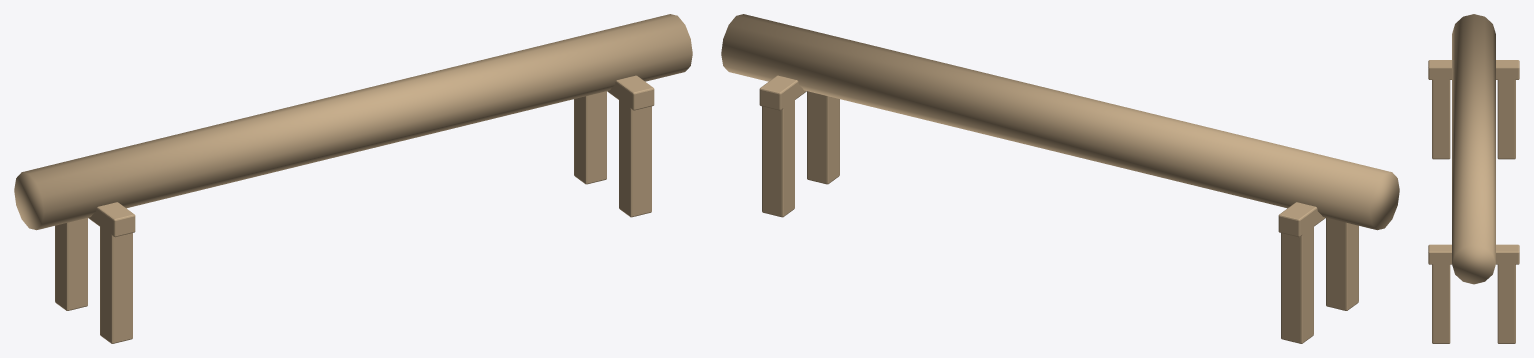
The model's file is balance_log.glb.
The picture shows the model from 3 angles, left to right: view 1: azimuth 30°, elevation 25°; view 2: azimuth 150°, elevation 25°; view 3: azimuth 270°, elevation 25°; orthographic projection. The views are drawn at different scales.
Parts seen in each view (by area): view 1: log_beam, log_support_b-1.2, log_support_b1.2, log_support_a-1.2, log_support_a1.2, log_cross-1.2, log_cross1.2; view 2: log_beam, log_support_a1.2, log_support_a-1.2, log_support_b-1.2, log_support_b1.2, log_cross1.2, log_cross-1.2; view 3: log_beam, log_support_a-1.2, log_support_b-1.2, log_support_a1.2, log_support_b1.2, log_cross1.2, log_cross-1.2.
Part boxes in pixels (x1,y1,x2,y2): log_beam: [14, 14, 692, 230]; log_support_b-1.2: [100, 213, 132, 343]; log_support_b1.2: [619, 90, 651, 217]; log_support_a-1.2: [55, 218, 87, 310]; log_support_a1.2: [574, 91, 606, 184]; log_cross-1.2: [88, 202, 135, 237]; log_cross1.2: [607, 75, 654, 110]; log_beam: [721, 14, 1399, 230]; log_support_a1.2: [762, 87, 794, 217]; log_support_a-1.2: [1281, 218, 1313, 343]; log_support_b-1.2: [1326, 218, 1358, 310]; log_support_b1.2: [807, 91, 839, 184]; log_cross1.2: [759, 75, 806, 110]; log_cross-1.2: [1278, 202, 1325, 237]; log_beam: [1452, 14, 1495, 284]; log_support_a-1.2: [1497, 79, 1515, 159]; log_support_b-1.2: [1432, 79, 1450, 159]; log_support_a1.2: [1497, 264, 1515, 343]; log_support_b1.2: [1432, 264, 1450, 343]; log_cross1.2: [1428, 244, 1519, 264]; log_cross-1.2: [1428, 60, 1519, 79].
Size of the model in its own units: 3 by 0.72 by 0.5.
